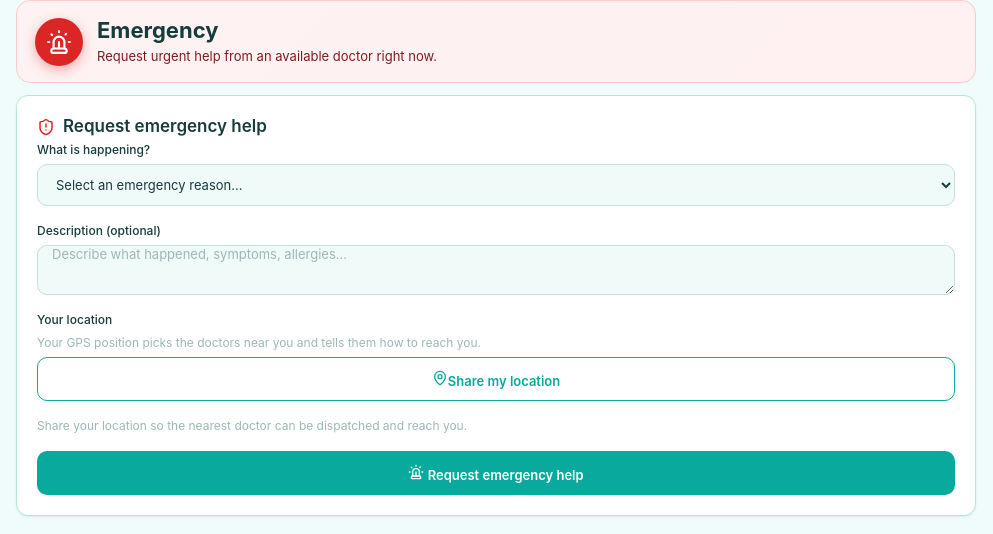
Test: PatientEmergencyScreen › reconciles from the 409 body when another tab filed the same emergency first
Click the button "Share my location": point(496, 379) [37,357,955,401]
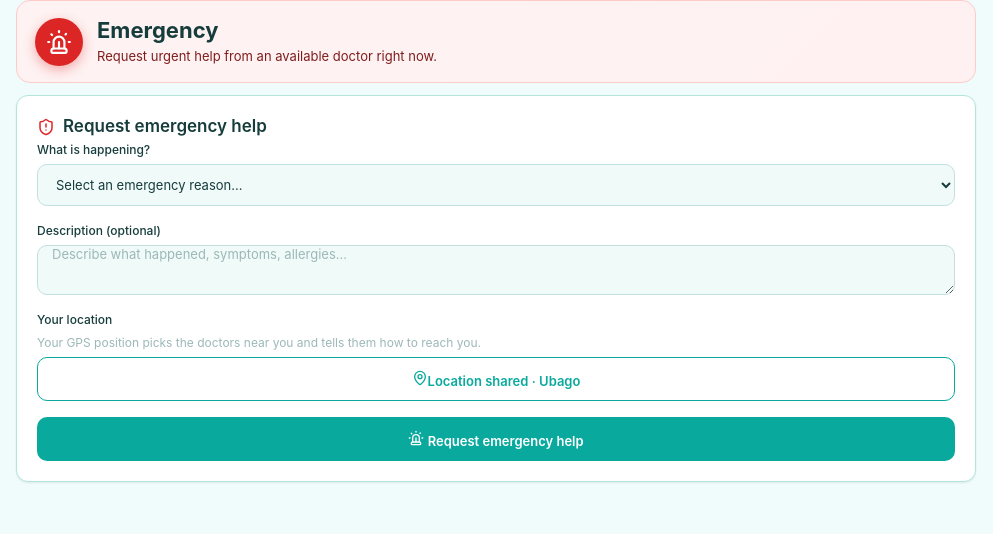
Result: the button "Location shared · Ubago" is shown at [37,357,955,401]
Select "Injury" in the dropdown labelled "What is happening?": point(496, 185) [37,164,955,206]
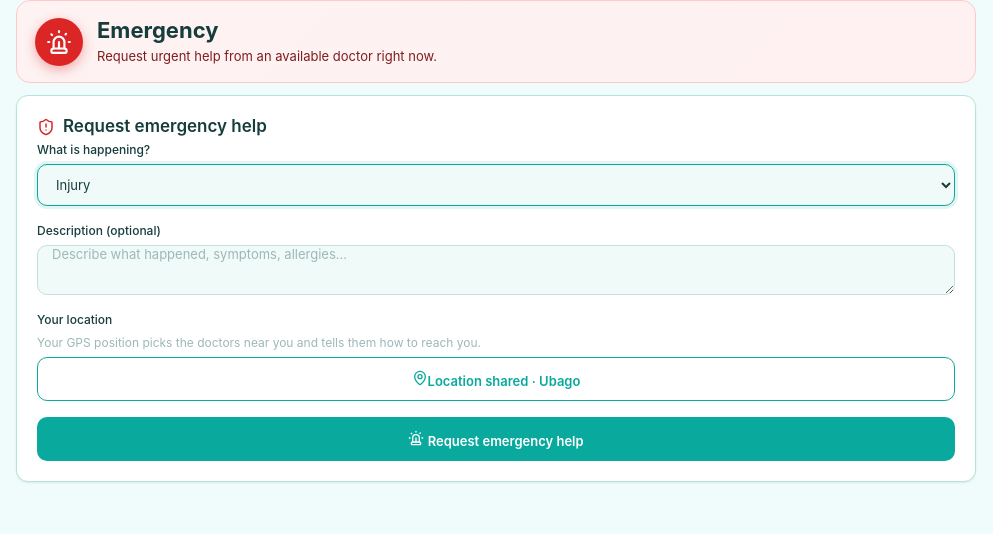
Click the button "Request emergency help": point(496, 439) [37,417,955,461]
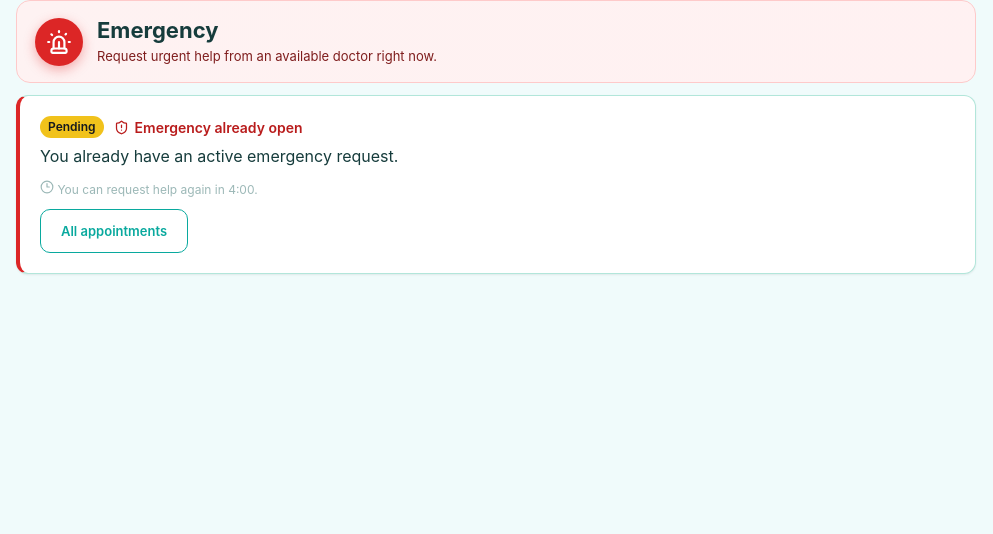
Result: the text "You already have an active emergency request." is shown at [40,146,398,166]
Result: the label labelled "What is happening?" is gone
